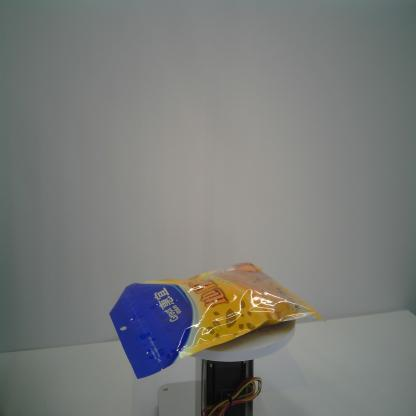Dried Fruit: (109, 260, 327, 380)
